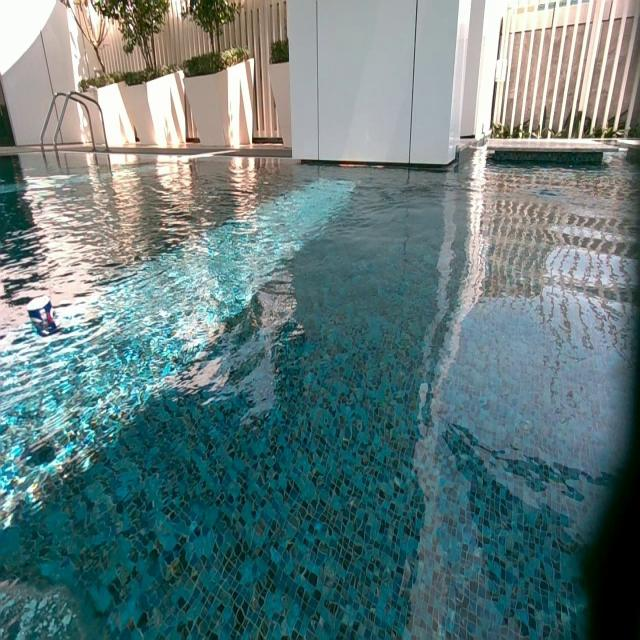Cans: (27, 298, 57, 329)
